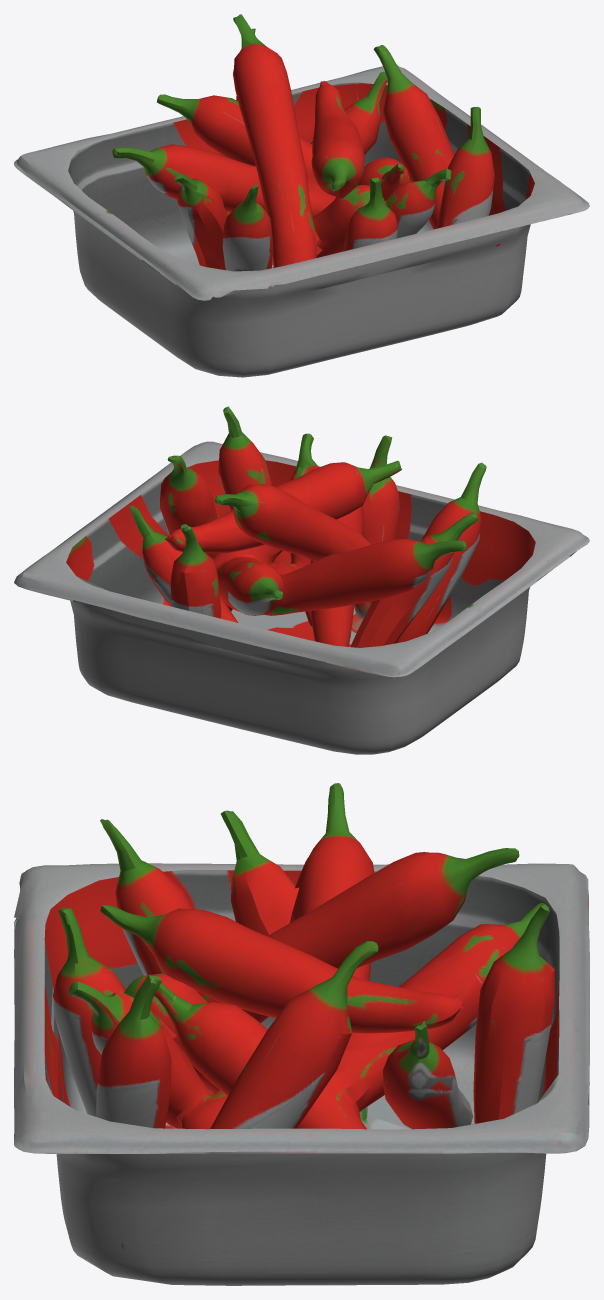
File: Meshy_AI_Chili_Pepper_Bin_0831085203_texture.fbx
3 renders of one model, top to bottom at view 1: azimuth 30°, elevation 25°; view 2: azimuth 150°, elevation 25°; view 3: azimuth 270°, elevation 25°, orthographic. The views are drawn at different scales.
Visible parts, largest first — view 1: Mesh0; view 2: Mesh0; view 3: Mesh0.
Boxes of the visible parts, left/top/right/bottom form: Mesh0: left=14, top=14, right=589, bottom=377; Mesh0: left=14, top=406, right=589, bottom=754; Mesh0: left=14, top=783, right=589, bottom=1285.
Size of the model in its own units: 190 by 104 by 162.
1 material, 1 textured.
